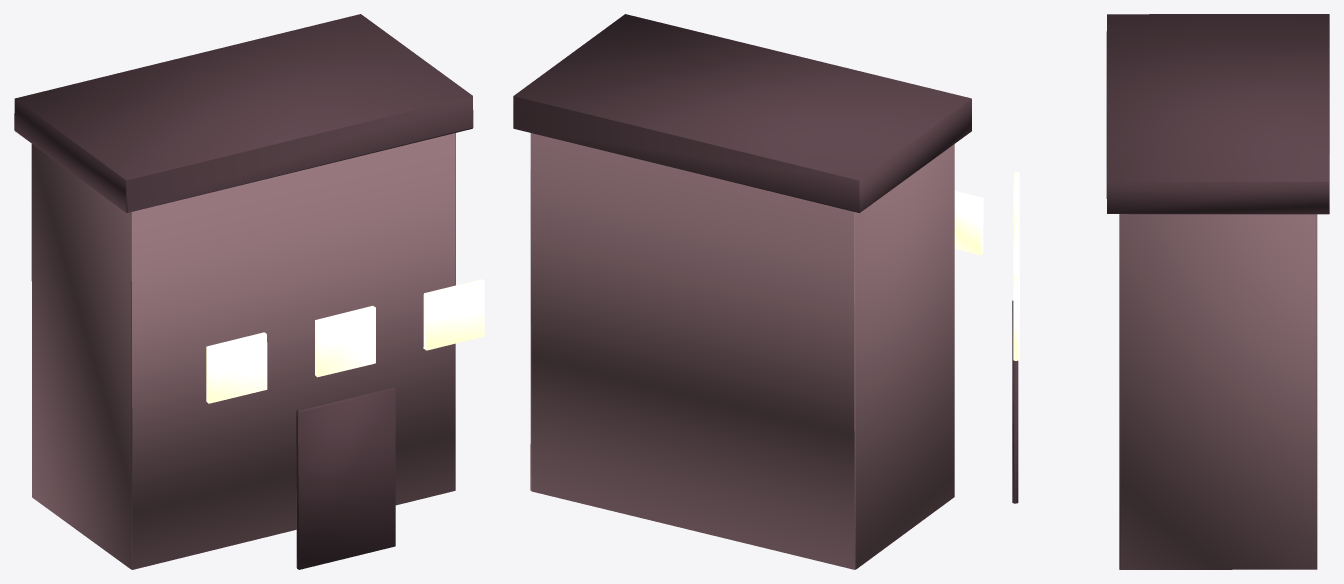
File: SM_Schlachthof_Hall_LOD2.fbx
The picture shows the model from 3 angles, left to right: view 1: azimuth 30°, elevation 25°; view 2: azimuth 150°, elevation 25°; view 3: azimuth 270°, elevation 25°; orthographic projection.
Parts seen in each view (by area): view 1: SM_Schlachthof_Hall_LOD2; view 2: SM_Schlachthof_Hall_LOD2; view 3: SM_Schlachthof_Hall_LOD2.
Boxes of the visible parts, x1,y1,x2,y2 form: SM_Schlachthof_Hall_LOD2: (14,14,484,569); SM_Schlachthof_Hall_LOD2: (513,14,983,569); SM_Schlachthof_Hall_LOD2: (1012,14,1329,569).
Size of the model in its own units: 3.19 by 3.49 by 2.55.
